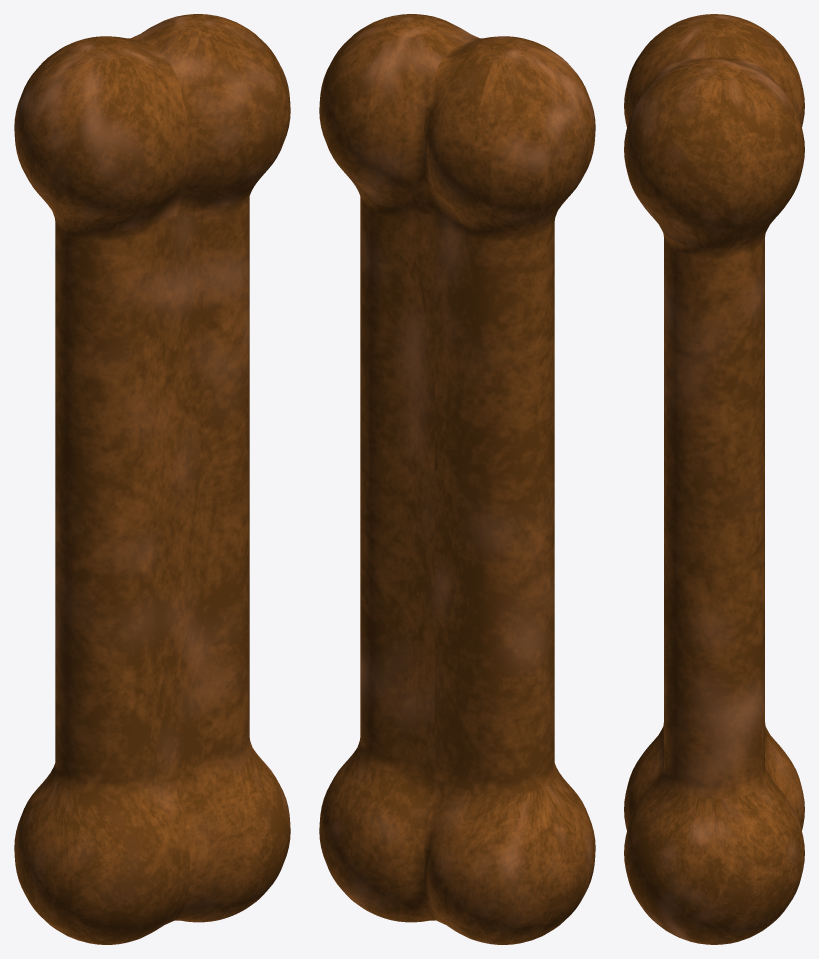
Rendered from dog bone.fbx.
3 renders of one model, left to right at view 1: azimuth 30°, elevation 25°; view 2: azimuth 150°, elevation 25°; view 3: azimuth 270°, elevation 25°, orthographic. The views are drawn at different scales.
Visible parts, largest first — view 1: Dog_bone_low_poly; view 2: Dog_bone_low_poly; view 3: Dog_bone_low_poly.
Boxes of the visible parts, box(x1,y1,x2,y2) form: Dog_bone_low_poly: box(14, 14, 290, 944); Dog_bone_low_poly: box(319, 14, 595, 944); Dog_bone_low_poly: box(624, 14, 804, 944).
Bounding box in the file's own units: 8.45 × 28.59 × 5.38.
1 material, 1 textured.
